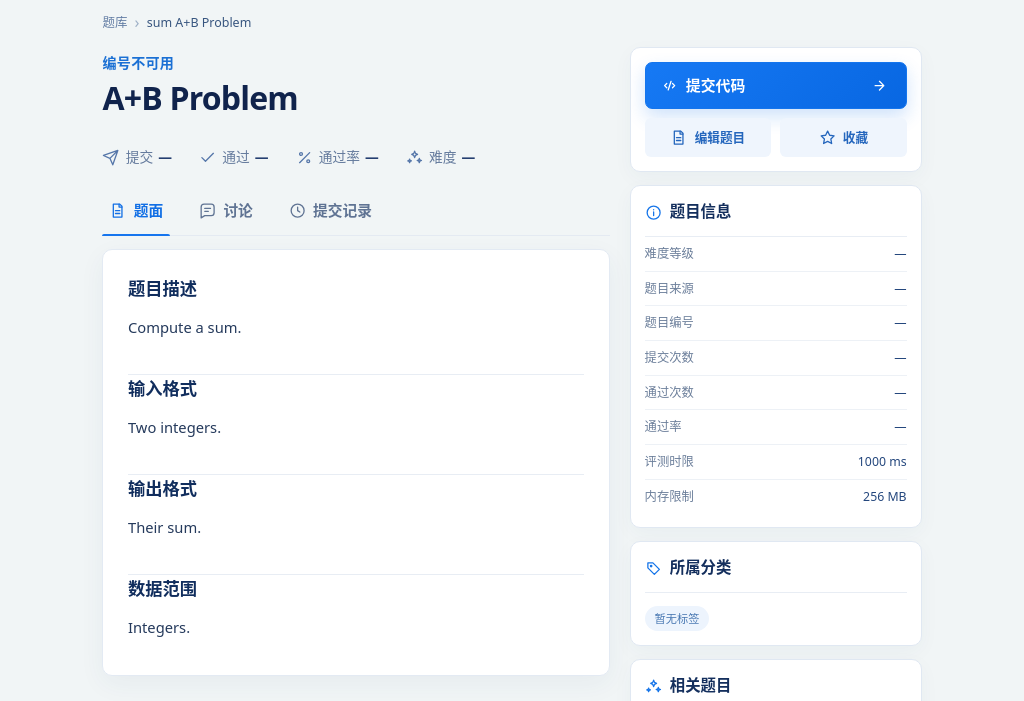
Test: Web UI polish › opens the traditional submission surface from the problem action
What coordinates should you click on to do the following:
click the link "提交代码"
I would click on:
 (716, 85)
Its box is [645, 62, 907, 109].
(page scrolled)
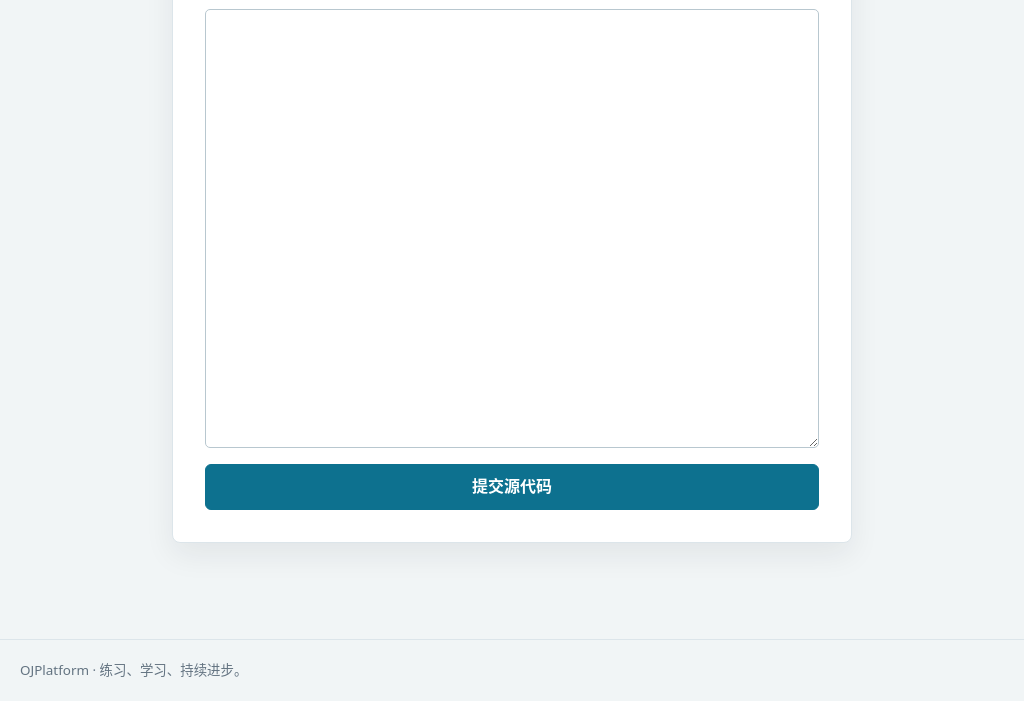
Result: the text box labelled "源代码" is shown at [205, 9, 819, 448]
Result: the button "提交源代码" is shown at [205, 464, 819, 510]
